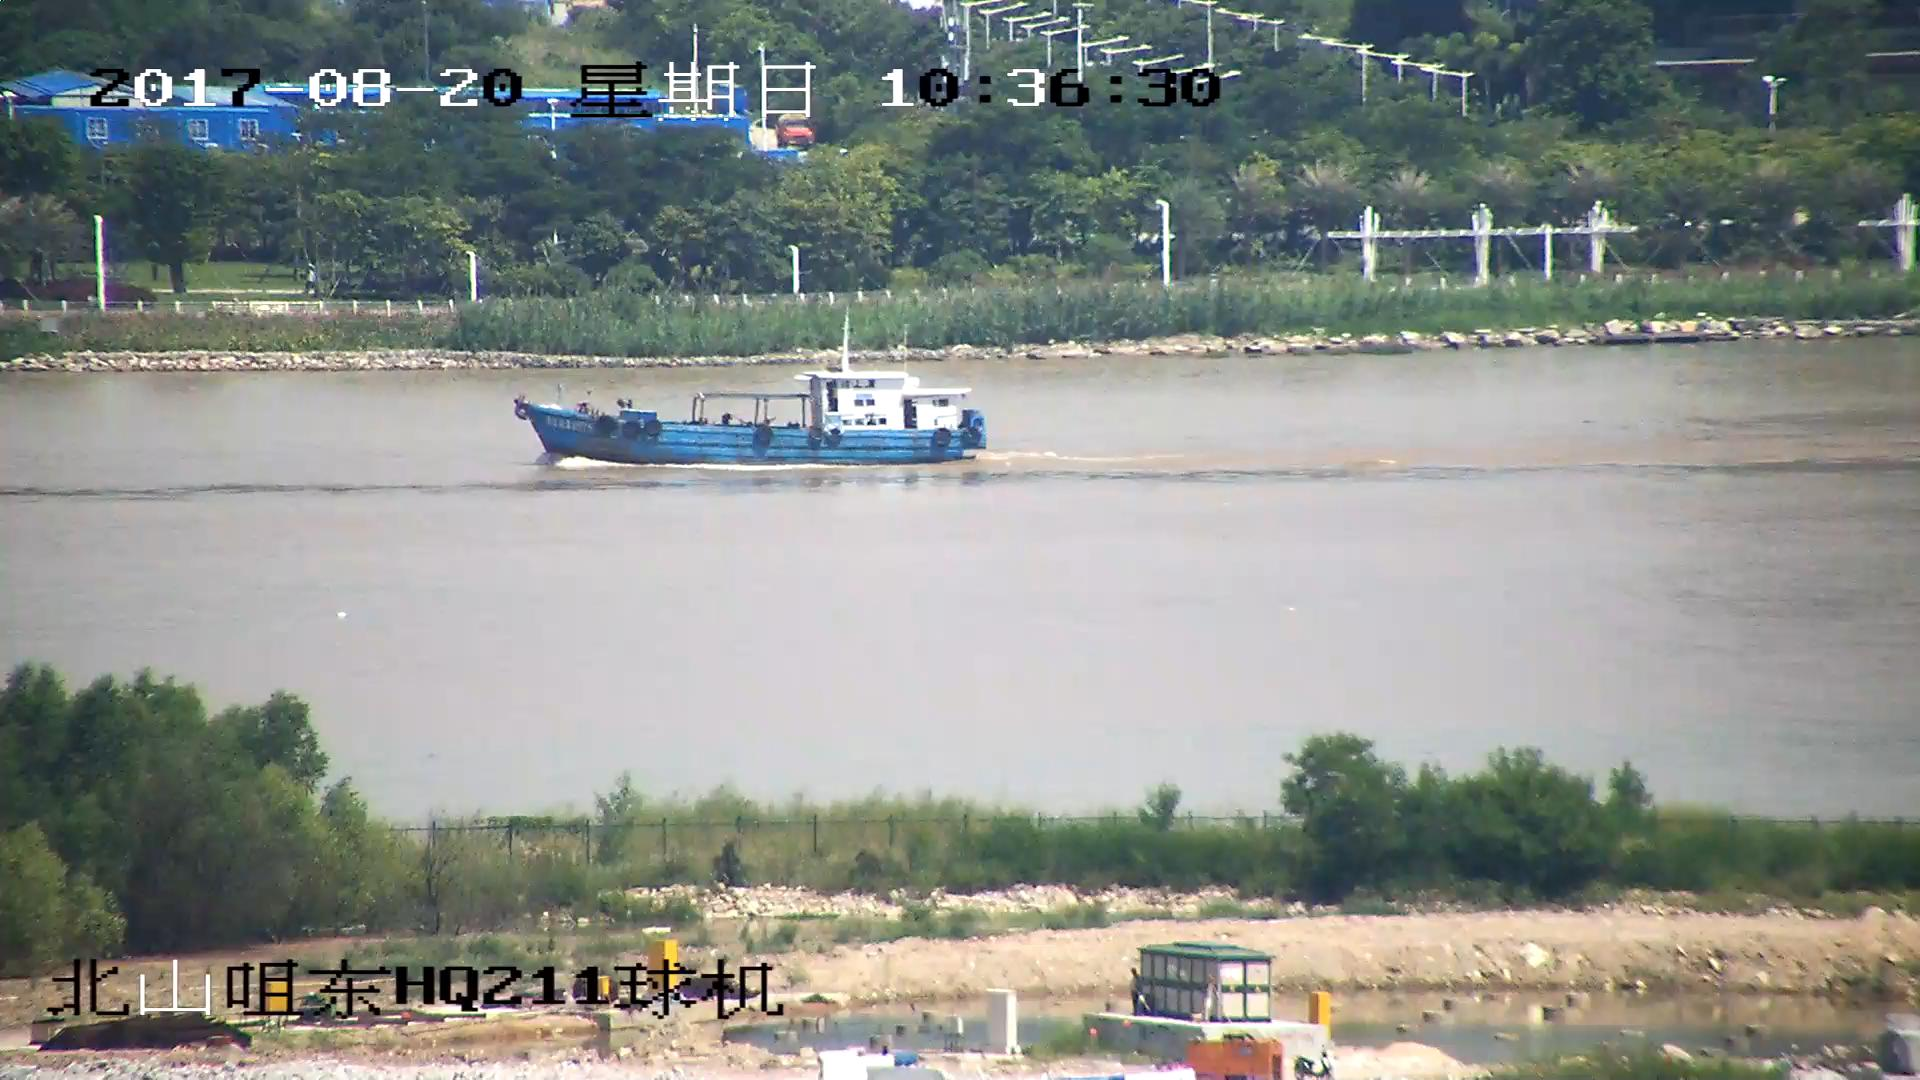fishing boat: (513, 312, 987, 468)
